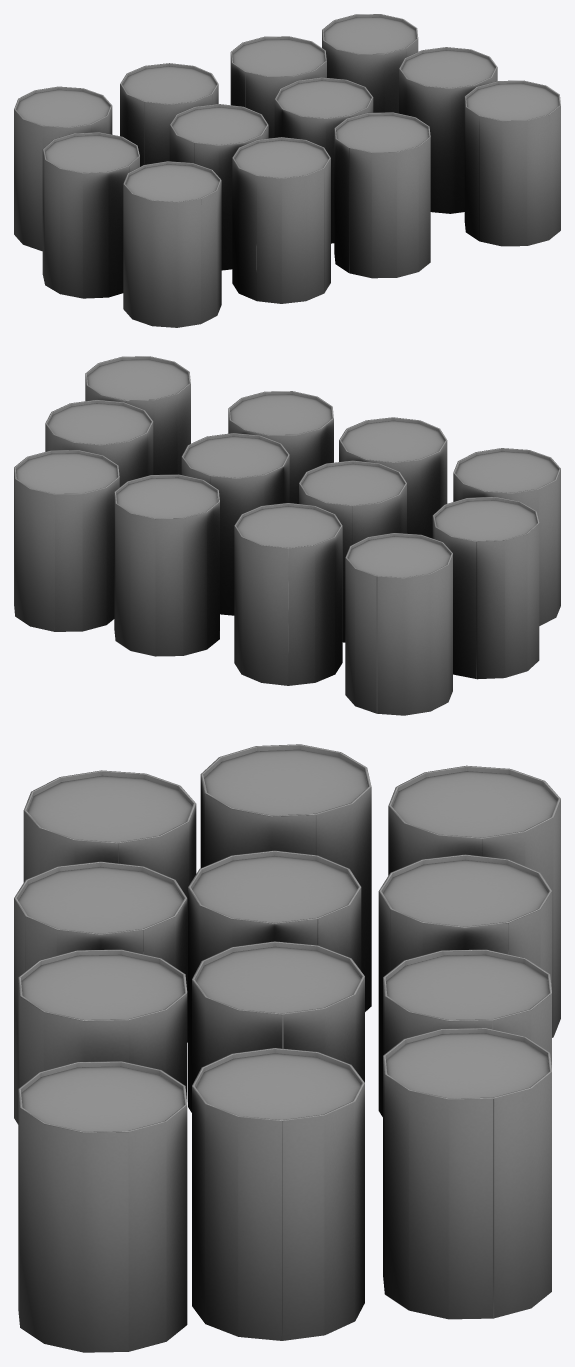
Rendered from static_cans.fbx.
3 renders of one model, top to bottom at view 1: azimuth 30°, elevation 25°; view 2: azimuth 150°, elevation 25°; view 3: azimuth 270°, elevation 25°, orthographic. The views are drawn at different scales.
Visible parts, largest first — view 1: Cylinder.010; view 2: Cylinder.010; view 3: Cylinder.010.
Boxes of the visible parts, x1,y1,x2,y2 form: Cylinder.010: (14, 14, 560, 327); Cylinder.010: (14, 356, 560, 715); Cylinder.010: (14, 744, 560, 1352).
Bounding box in the file's own units: 95.43 × 25.2 × 56.8.
1 material, 1 textured.
